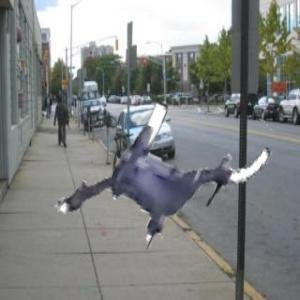drone: (73, 73, 269, 269)
